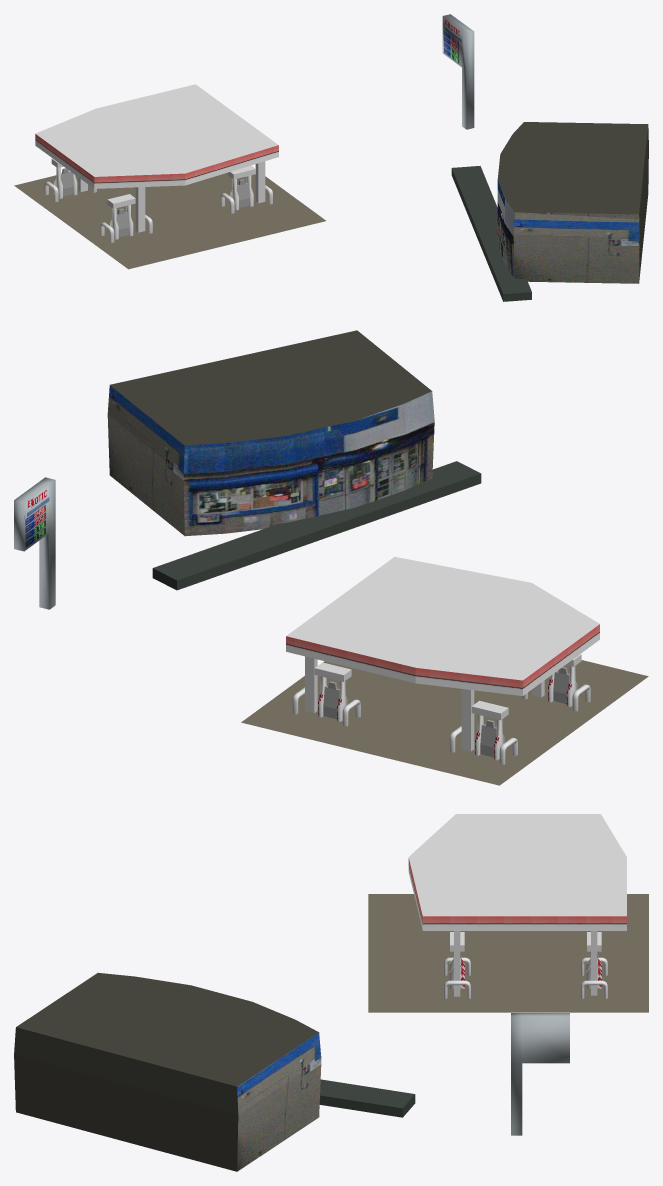
The model's file is Prologue - Gas Station.fbx.
3 views of the same model, one above another, from view 1: azimuth 30°, elevation 25°; view 2: azimuth 150°, elevation 25°; view 3: azimuth 270°, elevation 25° (orthographic). The views are drawn at different scales.
Parts seen in each view (by area): view 1: Store, Station, Plane, Sidewalk, Gaspump, Billboard, StationLegs; view 2: Store, Station, Plane, Sidewalk, Gaspump, Billboard, StationLegs; view 3: Store, Plane, Station, Billboard, Sidewalk, Gaspump, StationLegs.
Boxes of the visible parts, x1,y1,x2,y2 form: Store: [497, 122, 648, 283]; Station: [35, 84, 278, 188]; Plane: [14, 172, 325, 269]; Sidewalk: [451, 166, 531, 301]; Gaspump: [44, 158, 272, 242]; Billboard: [442, 14, 474, 129]; StationLegs: [78, 161, 265, 232]; Store: [107, 330, 434, 536]; Station: [286, 556, 599, 695]; Plane: [241, 660, 648, 785]; Sidewalk: [152, 461, 481, 590]; Gaspump: [292, 654, 590, 764]; Billboard: [14, 477, 55, 609]; StationLegs: [305, 656, 544, 751]; Store: [14, 972, 321, 1171]; Plane: [368, 894, 648, 1012]; Station: [408, 814, 626, 930]; Billboard: [511, 1013, 569, 1135]; Sidewalk: [319, 1079, 415, 1117]; Gaspump: [443, 932, 607, 998]; StationLegs: [454, 931, 597, 996].
Bounding box in the file's own units: 3893 × 797 × 3731.
Materials: 12 (5 with a texture image).
